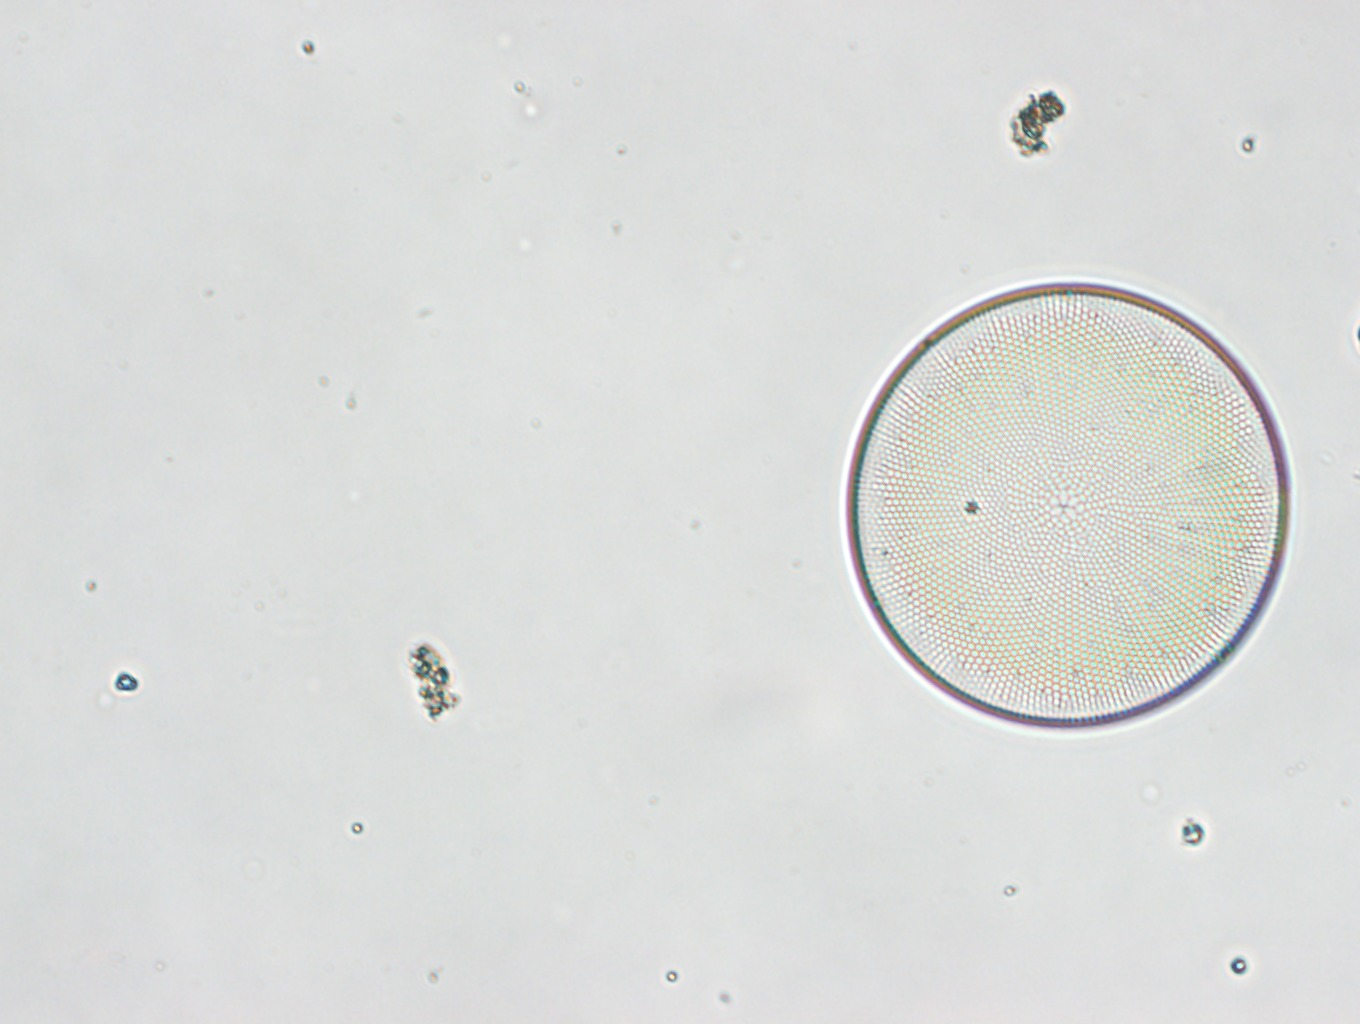coscinodiscus: (841, 274, 1294, 735)
